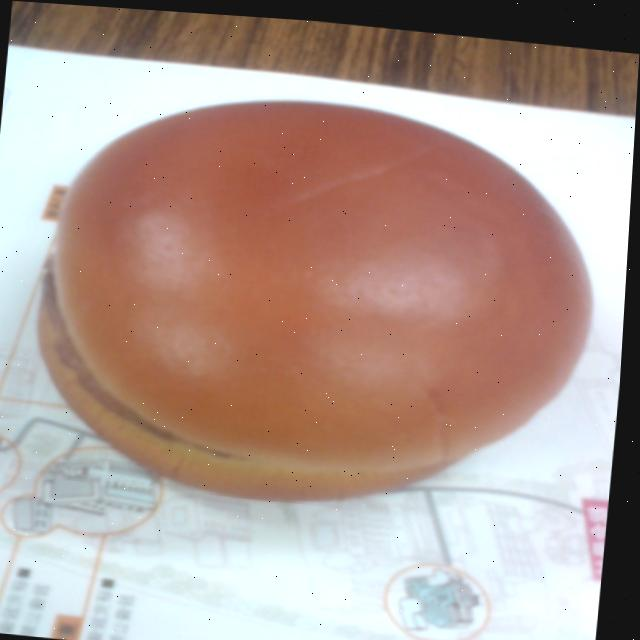汉堡快餐: (36, 66, 626, 526)
